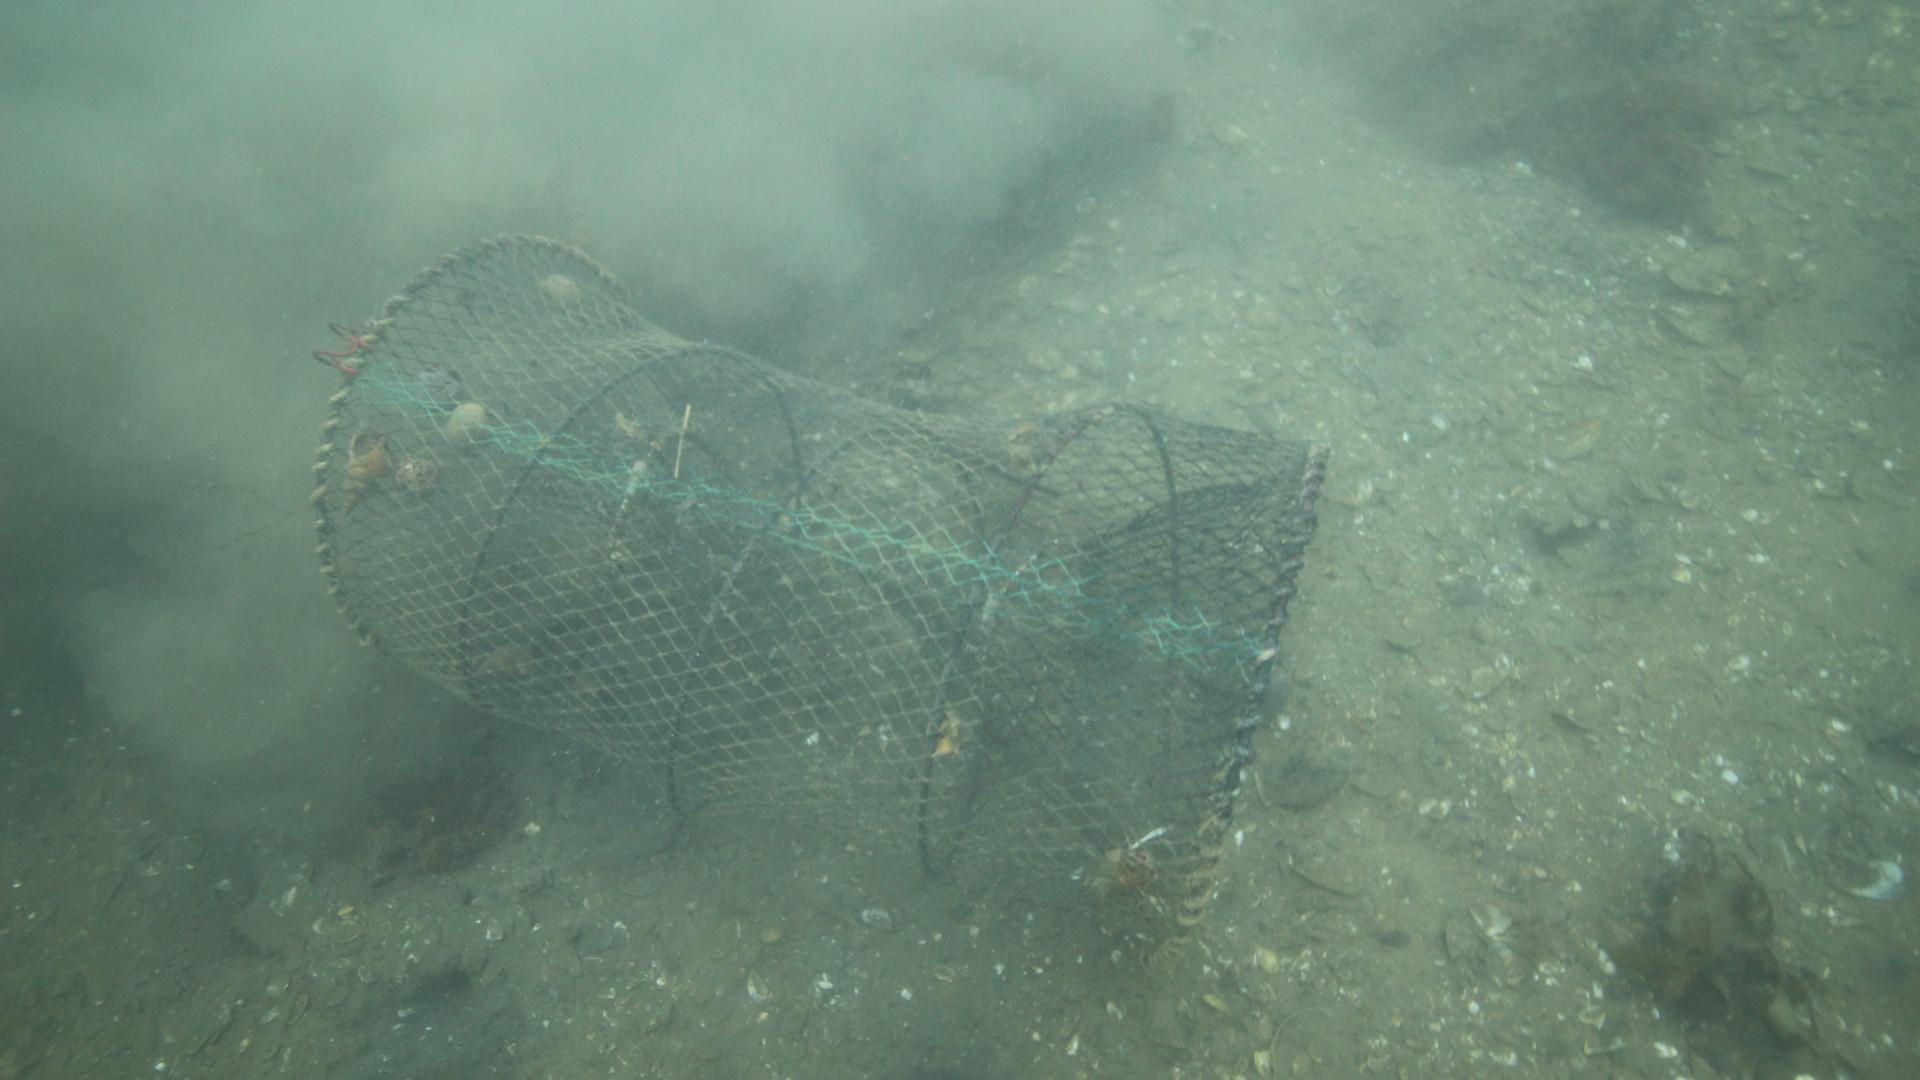spring fish trap: (323, 228, 1332, 982)
